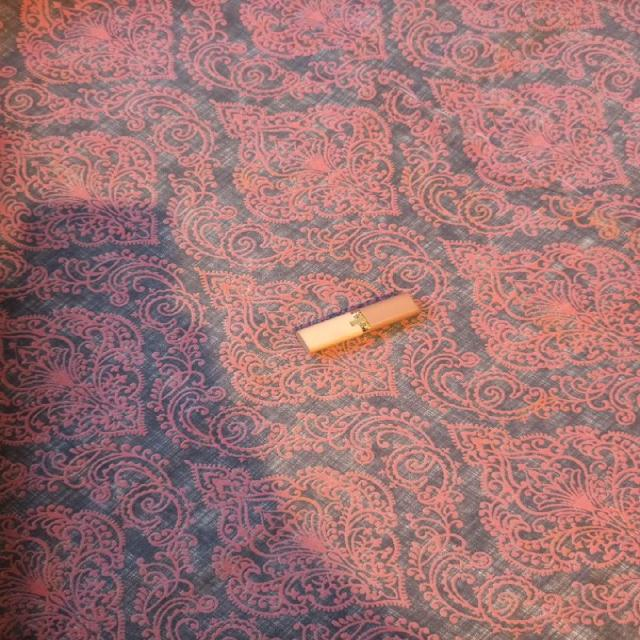lipstick: (295, 291, 421, 355)
